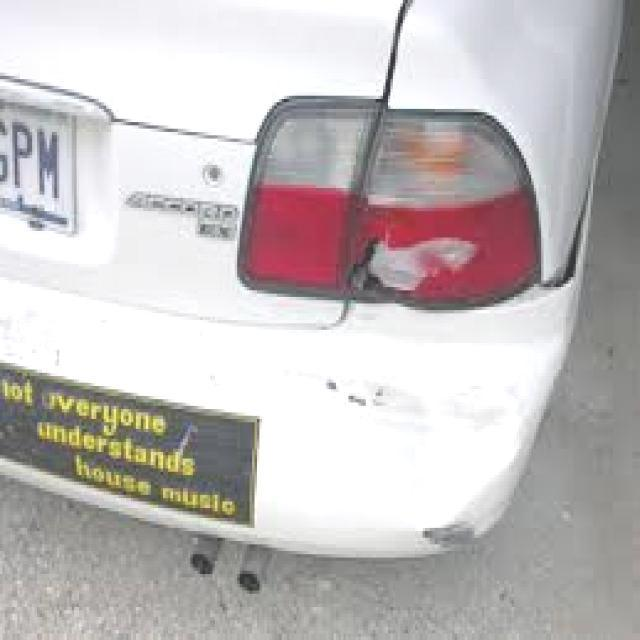minor: (316, 379, 513, 524)
moderate: (346, 117, 538, 307), (420, 524, 482, 555)
